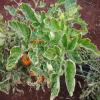Tomato leaf yellow virus: (18, 2, 47, 32), (77, 30, 99, 59), (46, 70, 65, 100), (5, 20, 34, 38), (42, 15, 66, 36), (5, 45, 23, 73), (64, 58, 77, 96), (42, 41, 61, 60), (27, 44, 39, 72), (68, 35, 82, 51), (60, 32, 71, 48)
